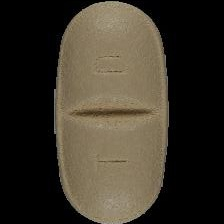54868-4836: (0, 0, 224, 224)
